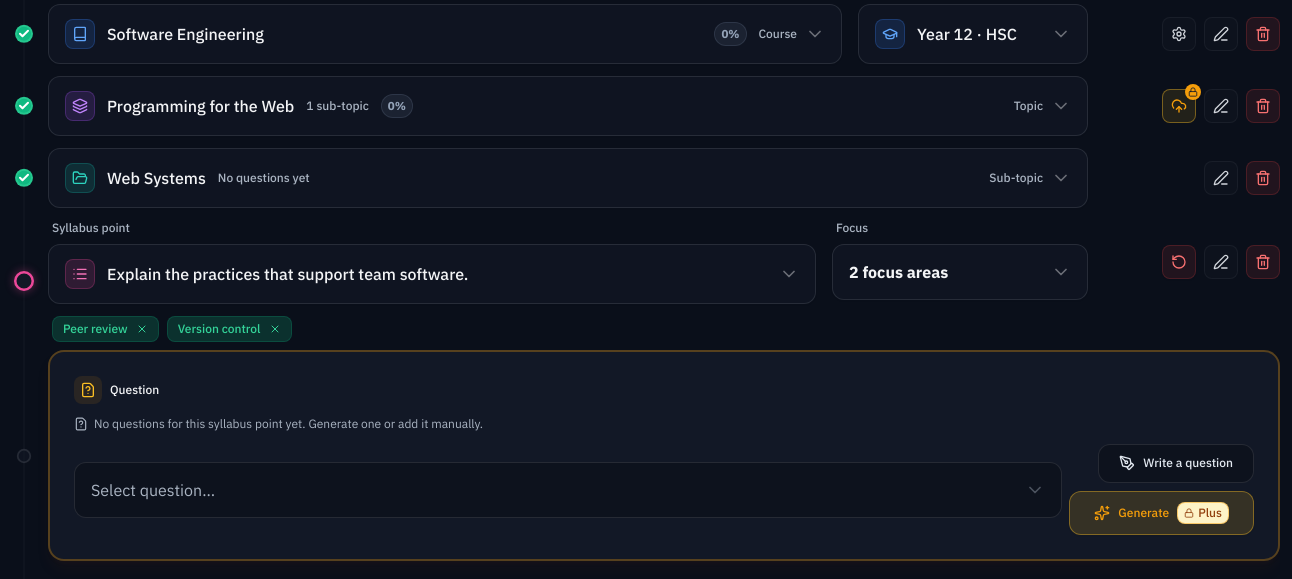
Scenario: focus picker trigger › still marks each chosen focus area in its list
This screenshot has width=1292, height=579.
Click the button "2 focus areas" at (960, 272), box [832,244,1088,300]
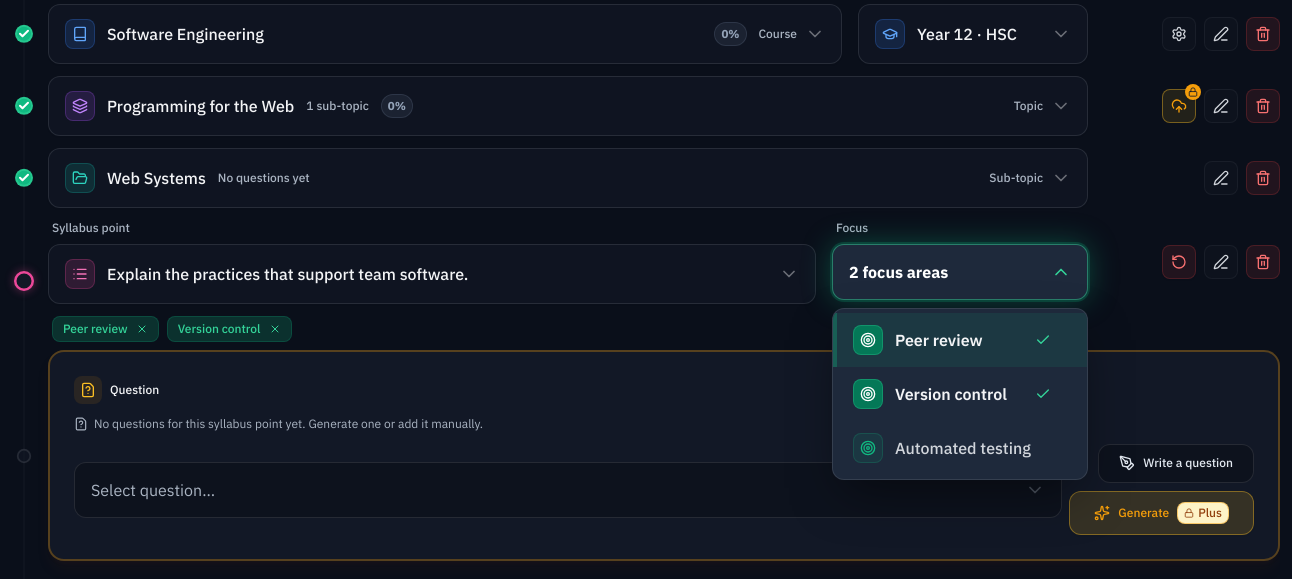
Expected: the 4th icon with class "lucide-check" is shown, [1035,332,1051,348]
Expected: the 5th icon with class "lucide-check" is shown, [1035,386,1051,402]
